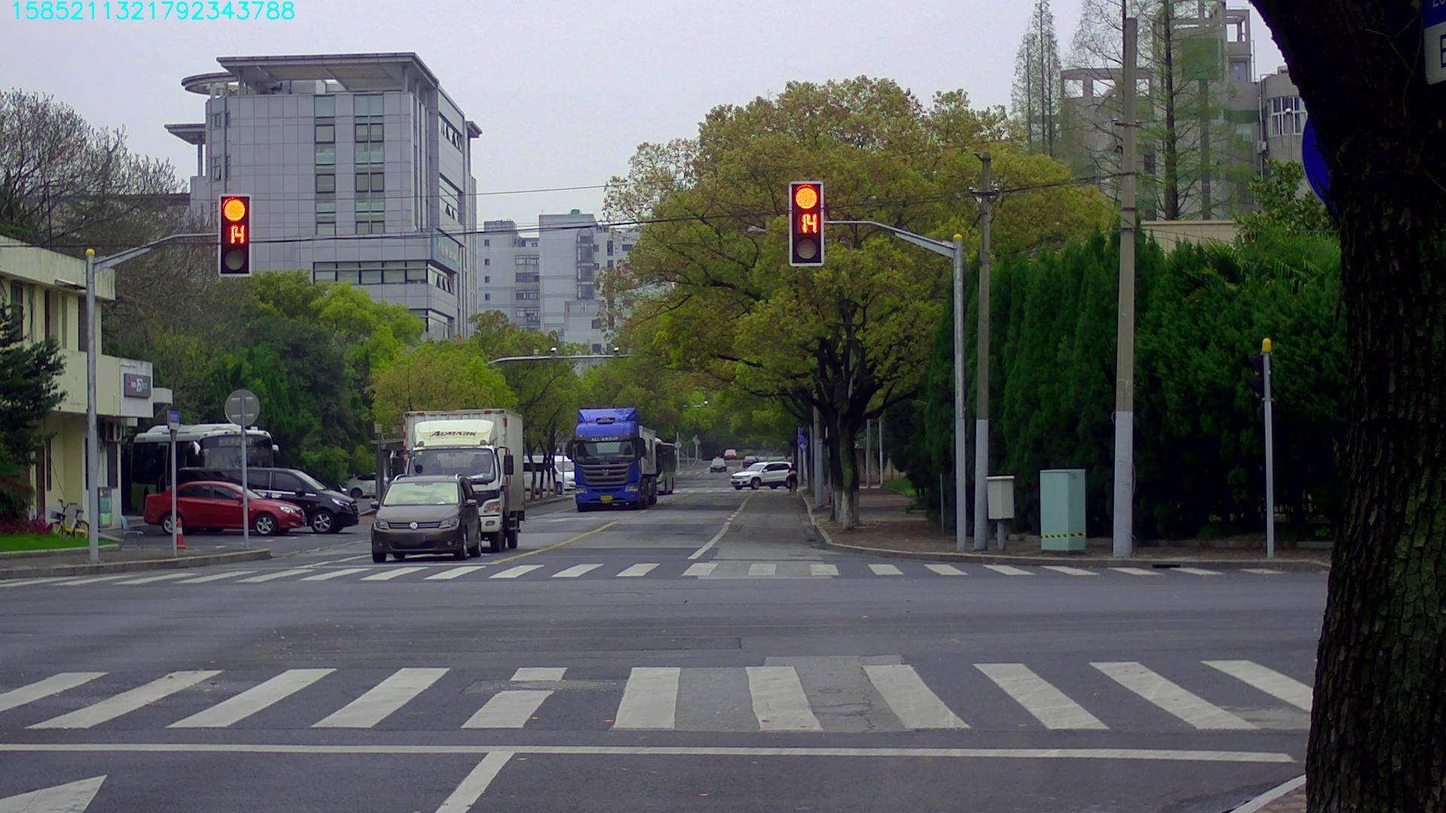red: (789, 181, 822, 265), (219, 193, 250, 275)
